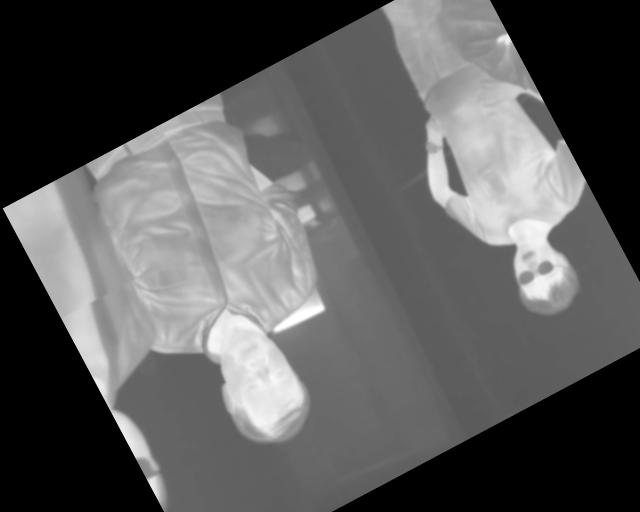face: (198, 321, 323, 460), (497, 226, 591, 326)
